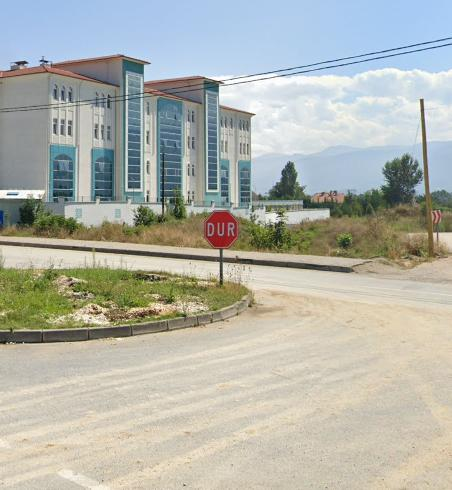stop: (205, 211, 238, 247)
